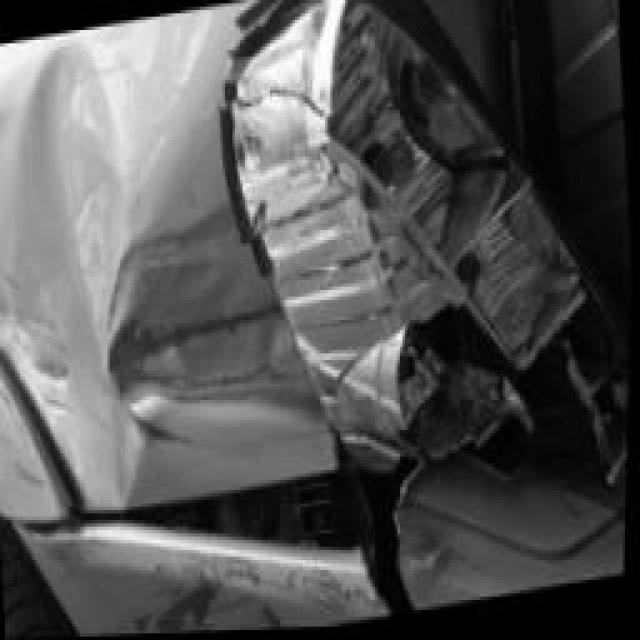Bumper: (23, 487, 629, 637)
Fender: (0, 0, 343, 521)
Light: (206, 0, 632, 508)
